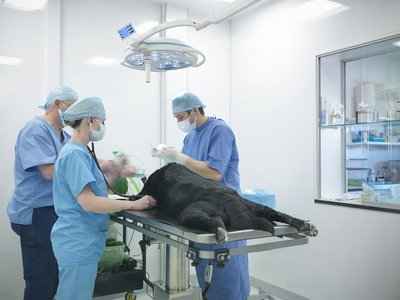rightmask: (62, 98, 107, 148), (170, 93, 206, 135)
